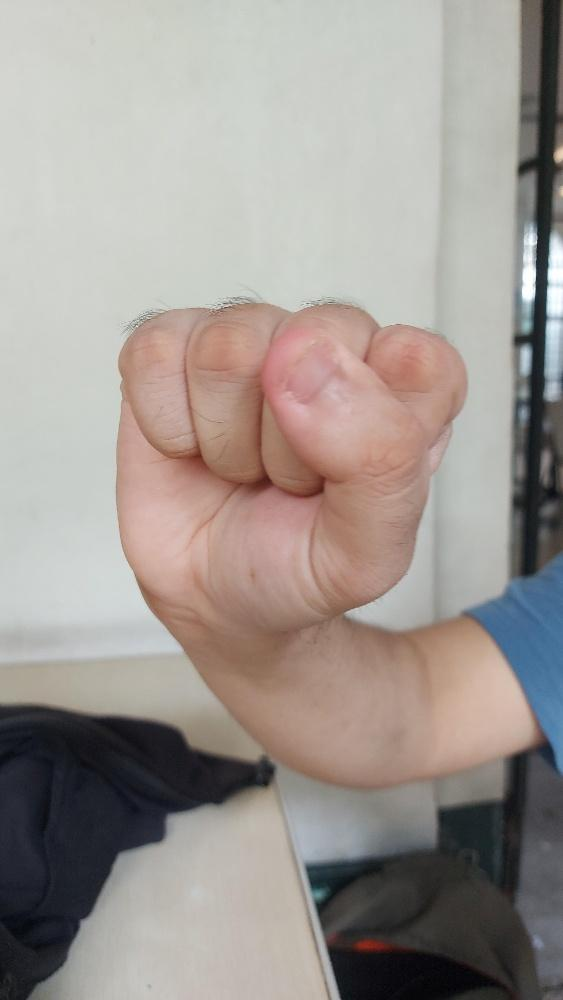s: (114, 301, 467, 635)
